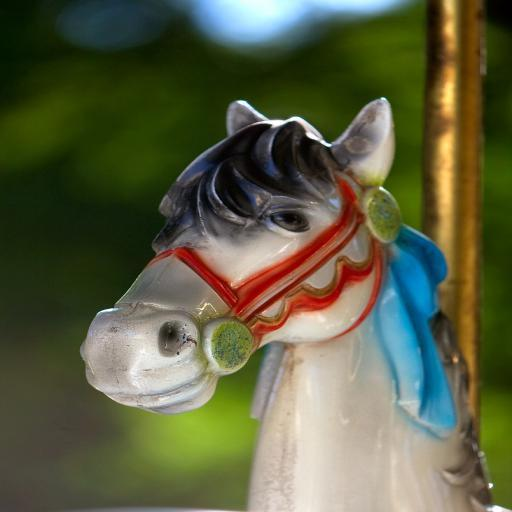horse: (78, 98, 495, 512)
